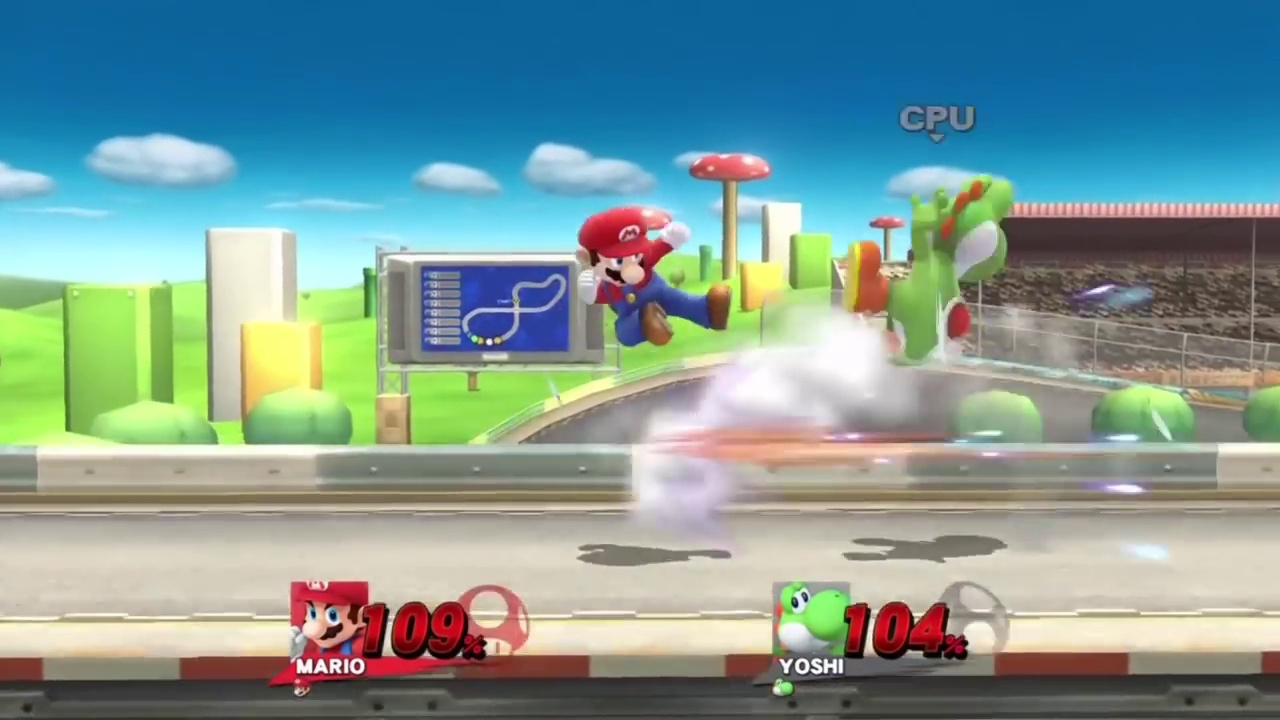Mario: (577, 211, 733, 350)
